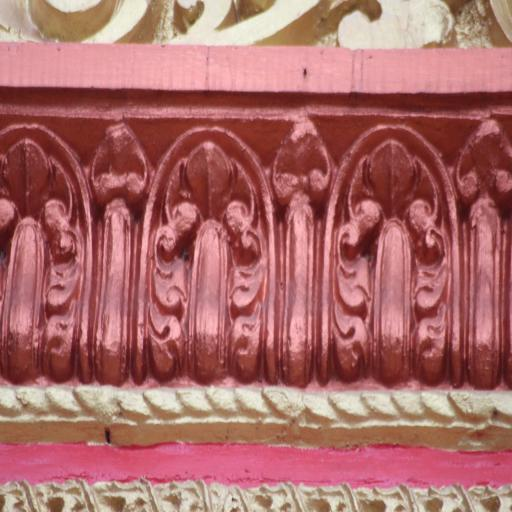la: (329, 122, 463, 390), (144, 126, 278, 382), (0, 123, 89, 383), (268, 120, 334, 388), (88, 124, 148, 386), (459, 118, 512, 393)
